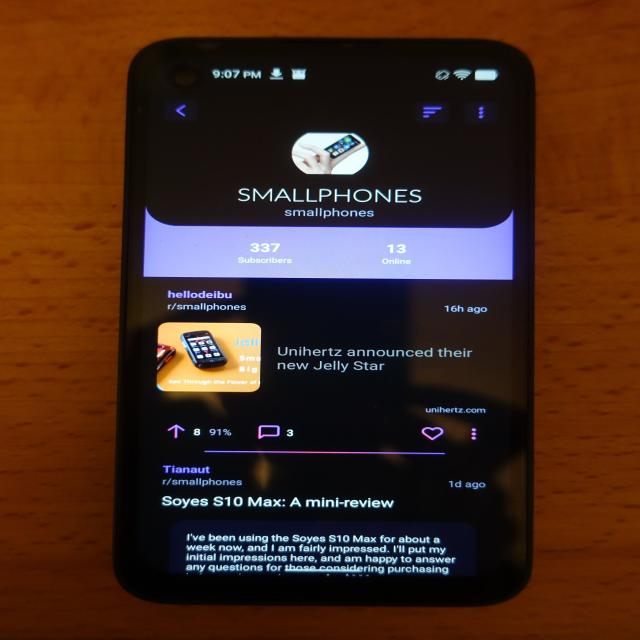mobile_phone: (77, 19, 544, 610)
